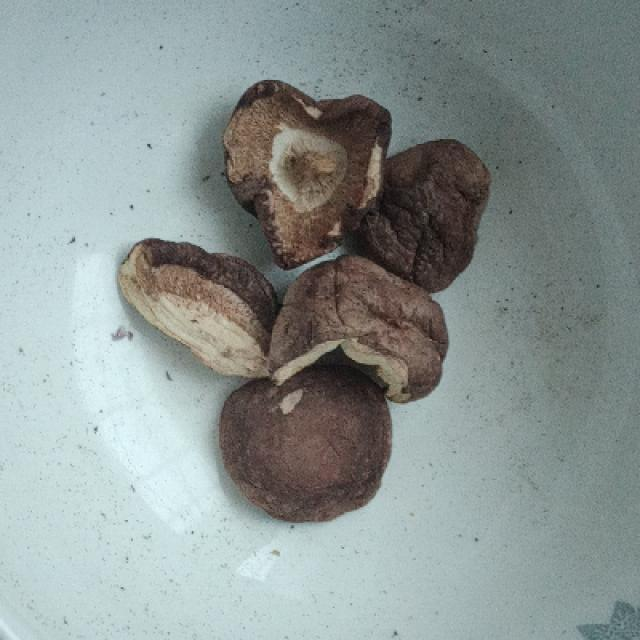Lentinus edodes: (225, 76, 390, 263), (262, 249, 448, 402), (217, 381, 390, 524), (117, 239, 274, 381), (359, 140, 488, 285)
